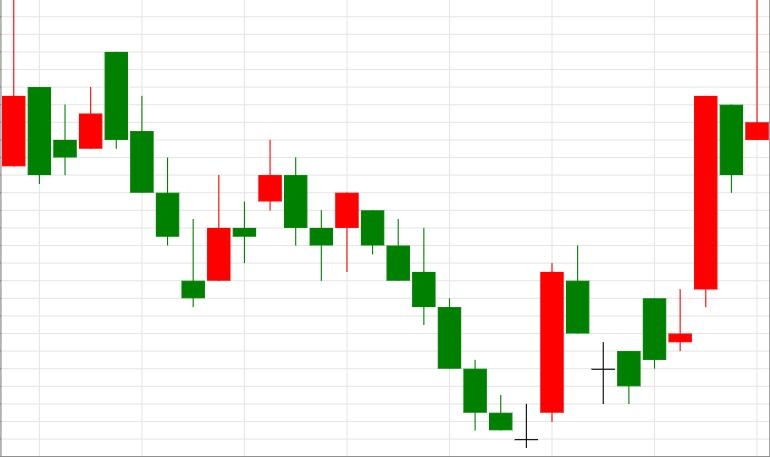inverse_hammer_rise: (105, 52, 204, 308)
morning_star_rise: (361, 210, 564, 449)
shooting_star_fall: (182, 140, 283, 308)
